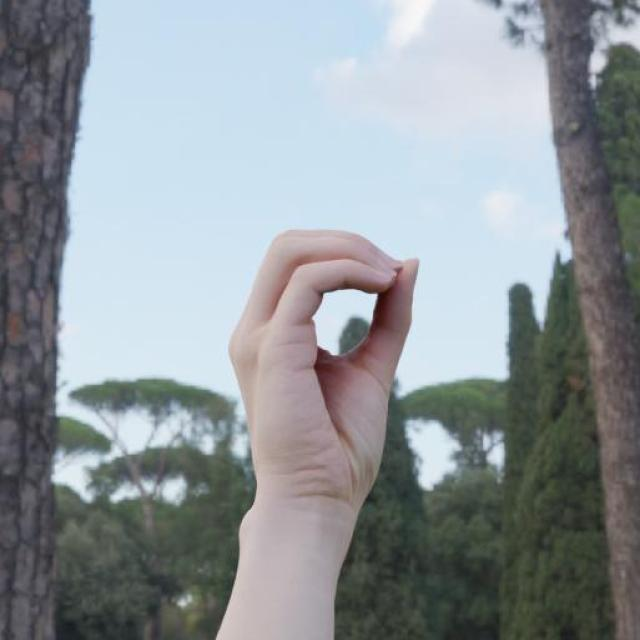O: (201, 197, 441, 582)
